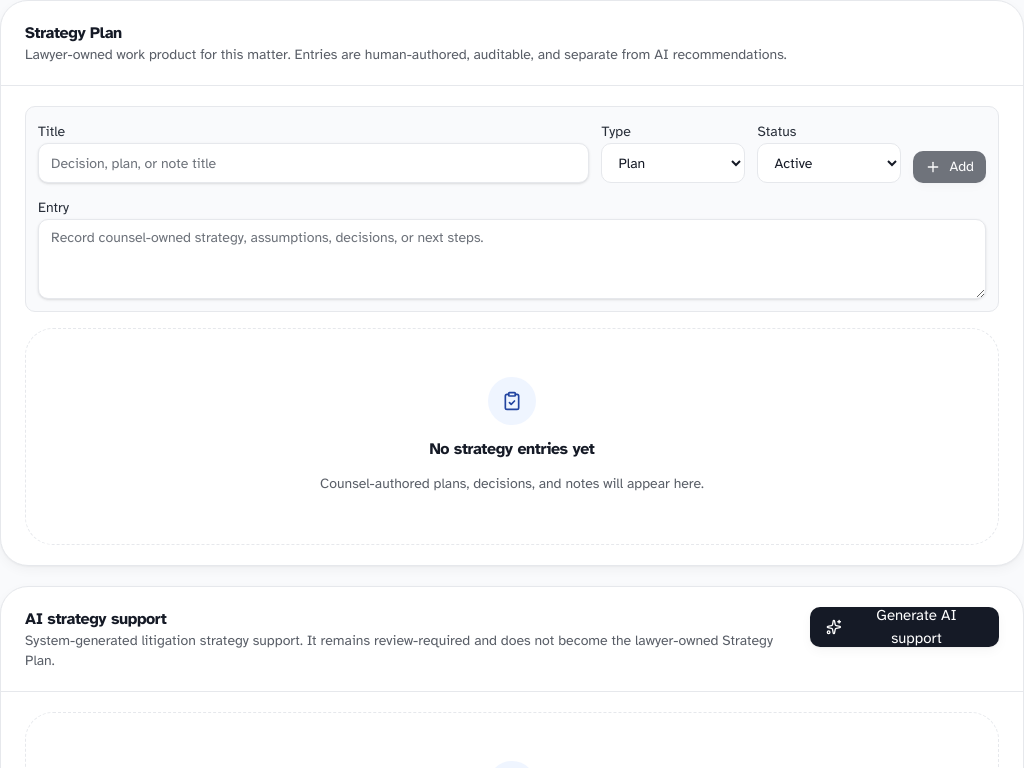
Test case: MatterStrategyPage › surfaces the persistent error banner when generation fails
What coordinates should you click on to do the following:
click the button with test id "strategy-generate"
I would click on:
 (905, 627)
Its box is [810,607,999,647].
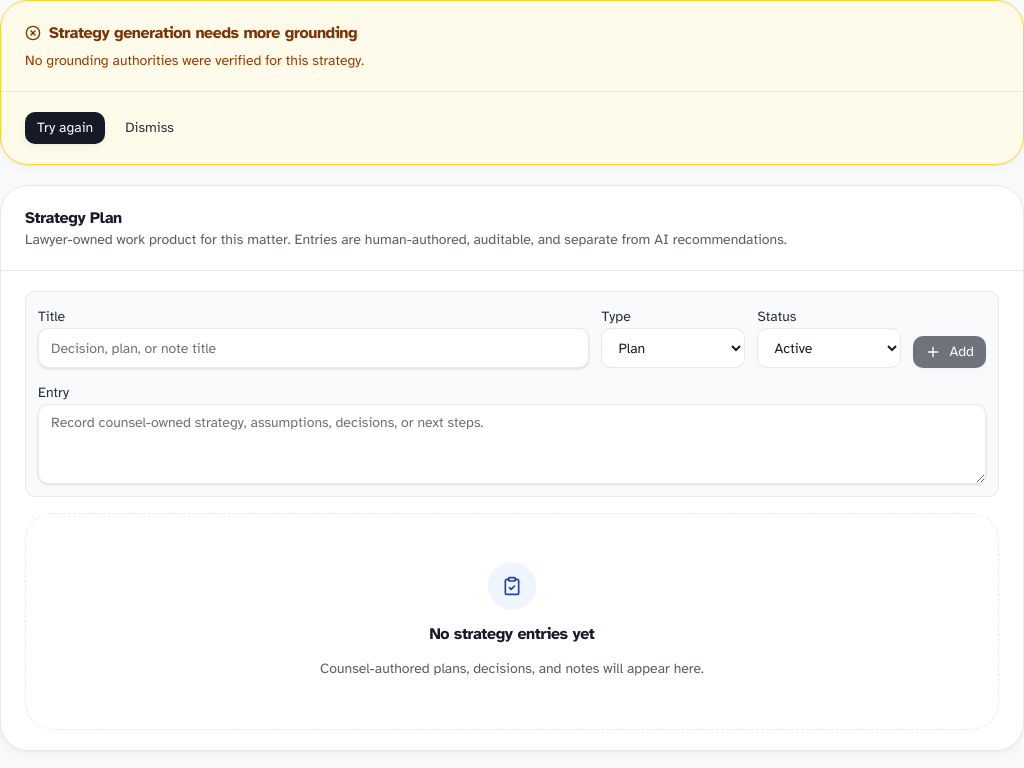
Now the element with test id "strategy-last-error" is shown, box [0,0,1023,165]
Now the text "No grounding authorities were verified for this strategy." is shown, box [25,52,364,69]
Now the button with test id "strategy-retry-from-banner" is shown, box [25,112,105,144]
